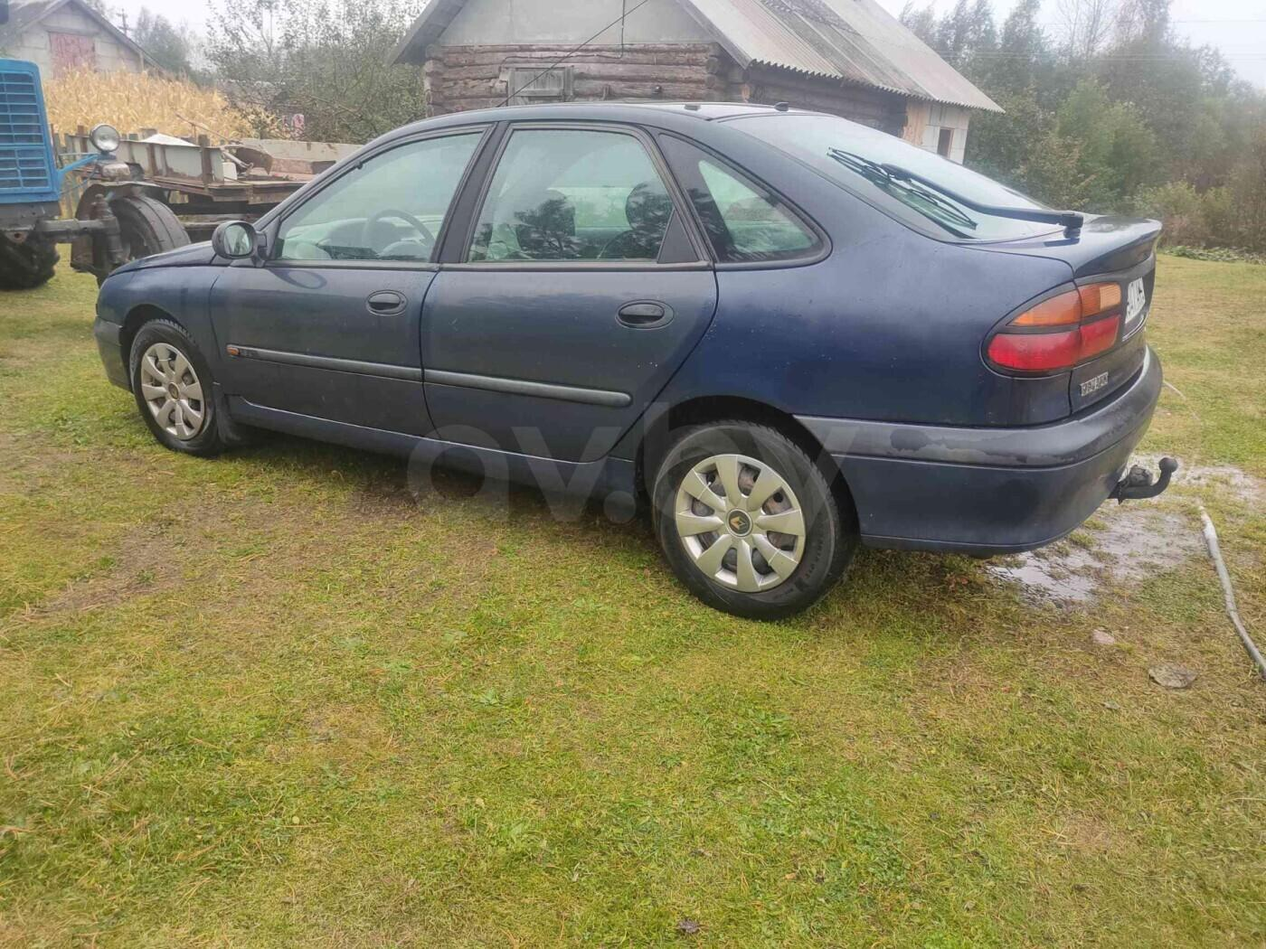Laguna_1998-2001: (85, 93, 1168, 617)
